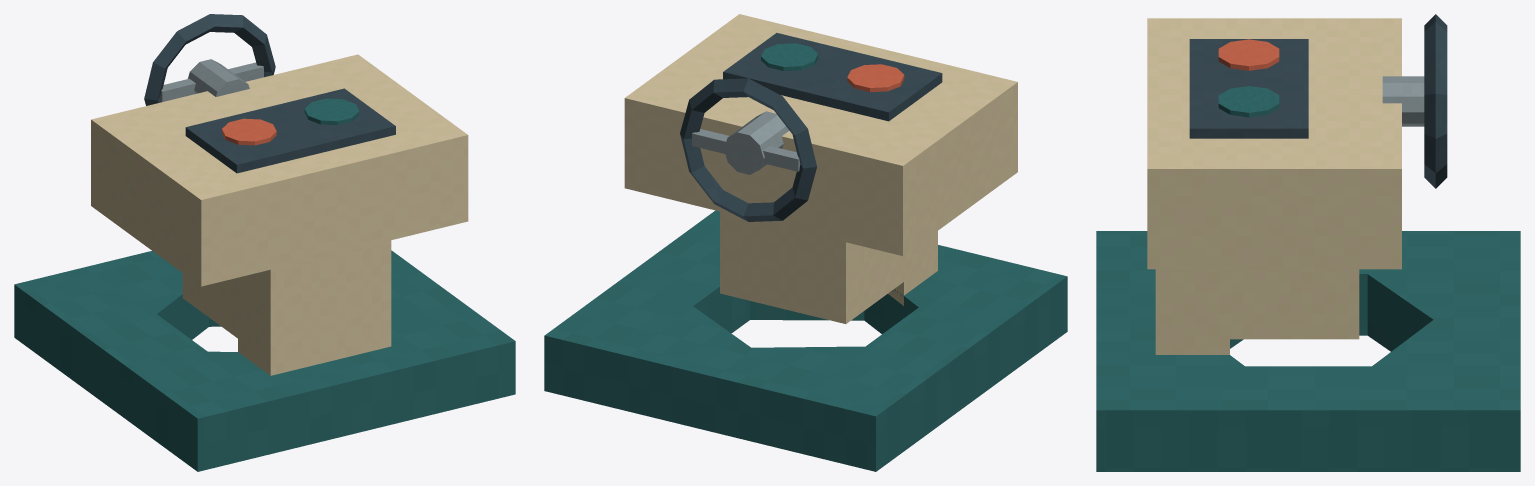
File: helm-lod-2.glb
The picture shows the model from 3 angles, left to right: view 1: azimuth 30°, elevation 25°; view 2: azimuth 150°, elevation 25°; view 3: azimuth 270°, elevation 25°; orthographic projection. The views are drawn at different scales.
Visible parts, largest first — view 1: helm_lod_2; view 2: helm_lod_2; view 3: helm_lod_2.
Part boxes in pixels (box(x1,y1,x2,y2)): helm_lod_2: box(14, 14, 515, 471); helm_lod_2: box(544, 14, 1067, 471); helm_lod_2: box(1096, 14, 1520, 471).
Size of the model in its own units: 1 by 0.937 by 1.
Materials: 1 (1 with a texture image).
